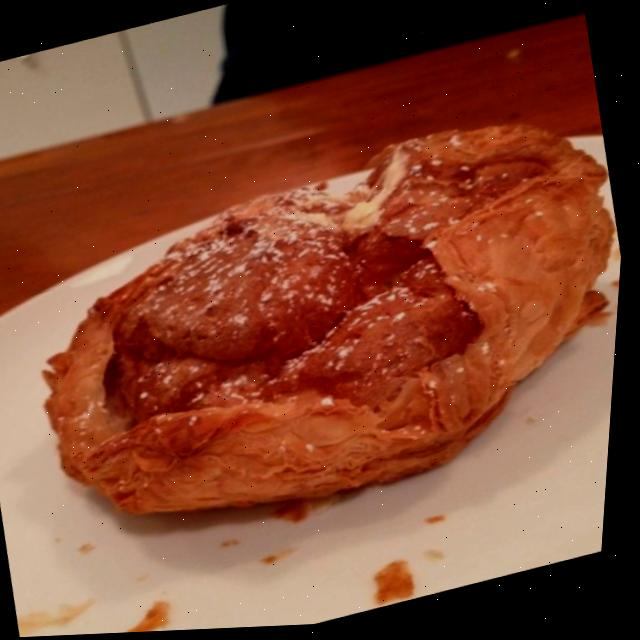炸货点心: (0, 84, 634, 584)
蛋糕甜品: (0, 84, 634, 584)
